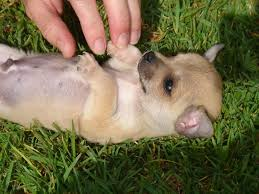chihuahua: (1, 43, 226, 145)
